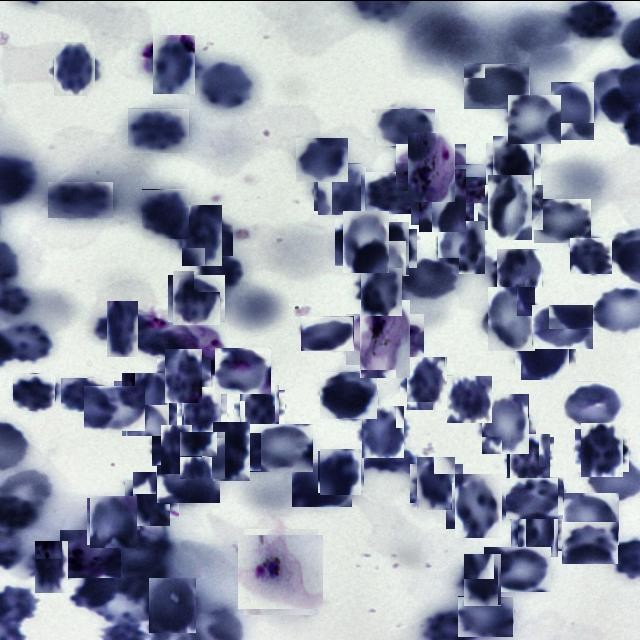red blood cell: (484, 290, 540, 346), (118, 376, 174, 432), (414, 172, 470, 228), (464, 62, 530, 108), (518, 321, 573, 376), (483, 179, 538, 234), (451, 477, 506, 532), (250, 423, 313, 471), (157, 456, 220, 504), (484, 546, 551, 591), (479, 396, 533, 451), (562, 492, 619, 544), (339, 214, 393, 268), (197, 60, 255, 110), (564, 380, 623, 428), (128, 107, 190, 152), (532, 303, 594, 348), (320, 370, 378, 418), (292, 460, 352, 506), (84, 385, 145, 430), (170, 272, 222, 324), (398, 258, 459, 302), (147, 579, 198, 631), (177, 209, 228, 260), (548, 84, 598, 136), (148, 38, 200, 88), (508, 94, 561, 143), (215, 347, 271, 393), (436, 222, 487, 272), (534, 198, 591, 242), (88, 496, 138, 546), (494, 250, 544, 299), (506, 476, 564, 518), (490, 138, 538, 188), (142, 188, 190, 238), (562, 521, 618, 563), (48, 181, 113, 217), (51, 44, 99, 92), (358, 407, 406, 455), (514, 506, 562, 554), (578, 426, 626, 474), (316, 164, 364, 212), (458, 595, 514, 636), (296, 137, 348, 181), (365, 171, 419, 213), (404, 358, 451, 406), (366, 224, 413, 272), (208, 427, 255, 475), (505, 434, 552, 481), (376, 108, 435, 145), (129, 475, 175, 521), (446, 376, 492, 422), (359, 268, 405, 314), (460, 556, 506, 602), (161, 352, 207, 398), (180, 432, 226, 478), (452, 482, 502, 524), (414, 460, 459, 506), (237, 386, 282, 431), (180, 388, 224, 434), (194, 251, 244, 291), (100, 306, 144, 350), (319, 449, 363, 493), (31, 544, 74, 588), (301, 315, 354, 350), (439, 163, 486, 202), (61, 377, 111, 411), (156, 429, 197, 469), (13, 372, 56, 410), (570, 237, 612, 273)
trophozoite: (241, 531, 321, 611), (353, 306, 417, 371), (402, 137, 461, 195), (60, 529, 121, 577), (173, 324, 226, 374)
